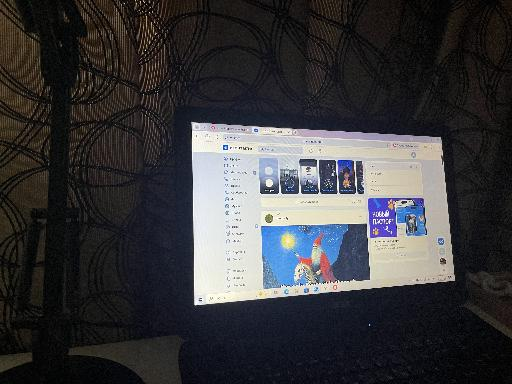vk: (195, 141, 450, 284)
